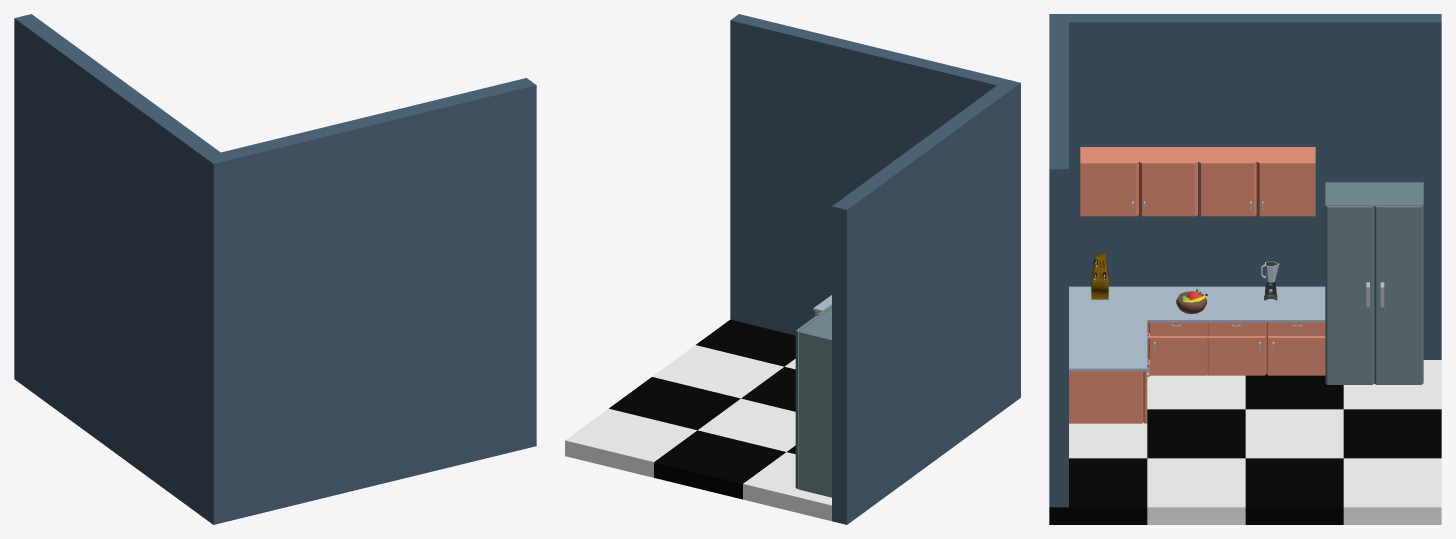
File: MutfakSon_Yeni.fbx
3 renders of one model, left to right at view 1: azimuth 30°, elevation 25°; view 2: azimuth 150°, elevation 25°; view 3: azimuth 270°, elevation 25°, orthographic. The views are drawn at different scales.
Parts seen in each view (by area): view 1: Zemin; view 2: Zemin; view 3: Zemin.
Part boxes in pixels (x1=…): Zemin: x1=14, y1=14, x2=536, y2=524; Zemin: x1=565, y1=14, x2=1020, y2=524; Zemin: x1=1049, y1=14, x2=1441, y2=524.
Bounding box in the file's own units: 187 × 200 × 200.
